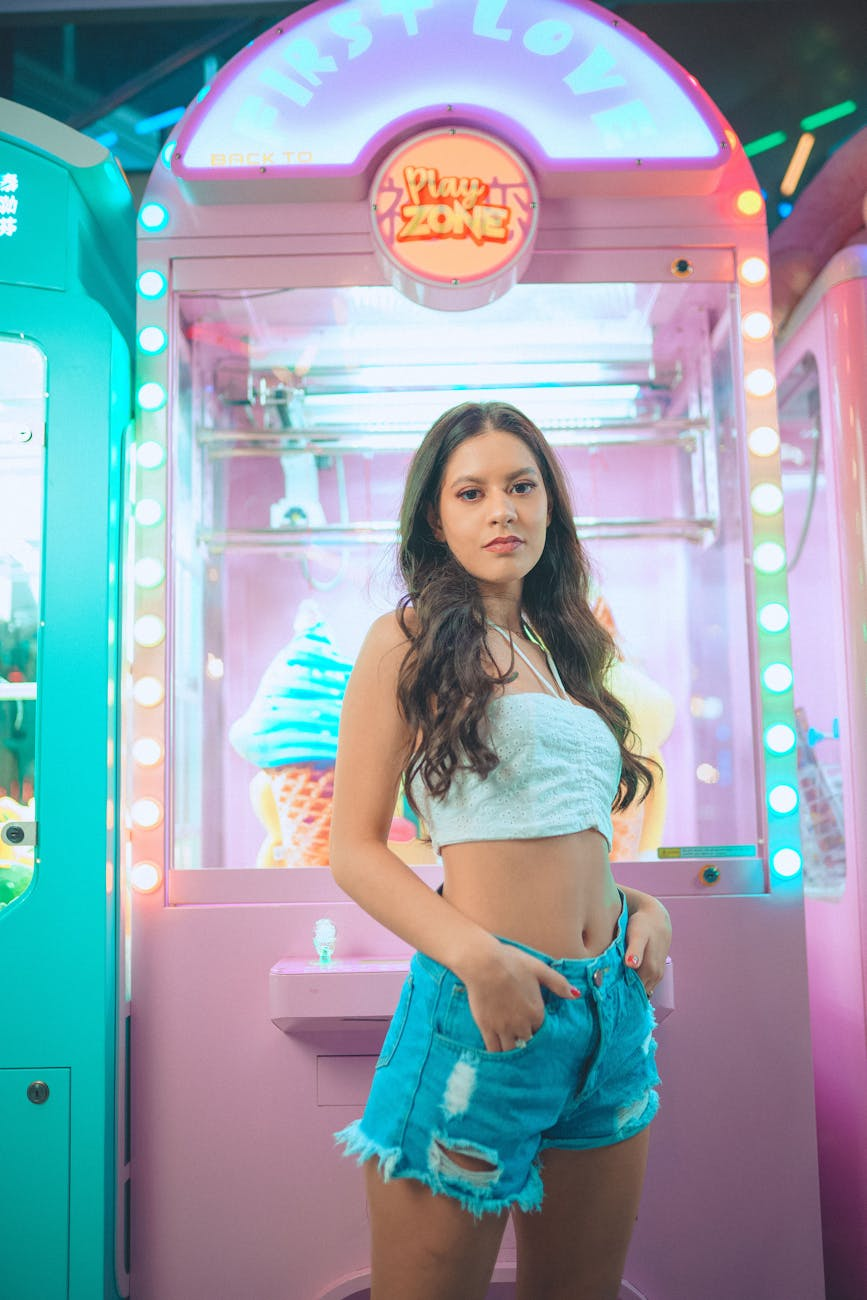crop_top: (397, 593, 650, 856)
shorts: (349, 886, 679, 1207)
